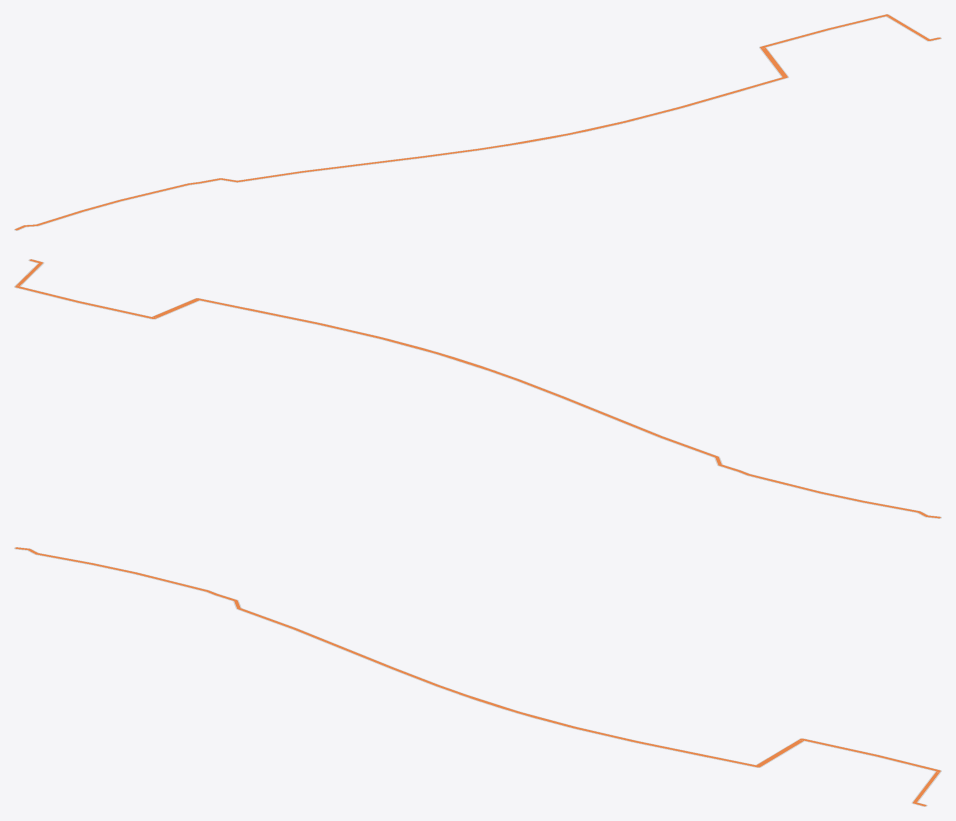
The model's file is ruta_gastronomico.glb.
The picture shows the model from 3 angles, top to bottom: view 1: azimuth 30°, elevation 25°; view 2: azimuth 150°, elevation 25°; view 3: azimuth 330°, elevation 25°; orthographic projection. The views are drawn at different scales.
Parts seen in each view (by area): view 1: ruta_gastronomico (×2); view 2: ruta_gastronomico (×2); view 3: ruta_gastronomico (×2).
Part boxes in pixels (x1=…): ruta_gastronomico (×2): x1=14, y1=14, x2=941, y2=230; ruta_gastronomico (×2): x1=14, y1=259, x2=941, y2=518; ruta_gastronomico (×2): x1=14, y1=547, x2=941, y2=806.
Size of the model in its own units: 27.34 by 0.114 by 2.57.
